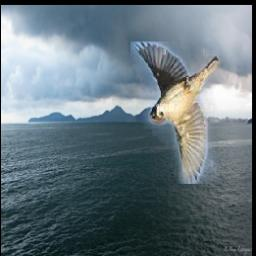Sparrow: (131, 42, 221, 184)
